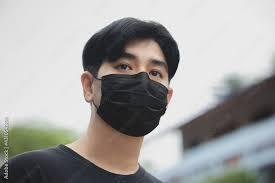mask: (96, 68, 173, 144)
